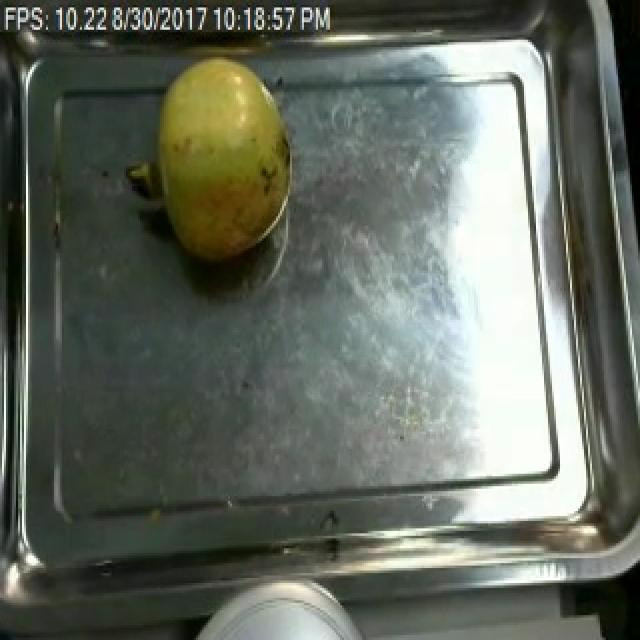fruit: (120, 50, 302, 268)
